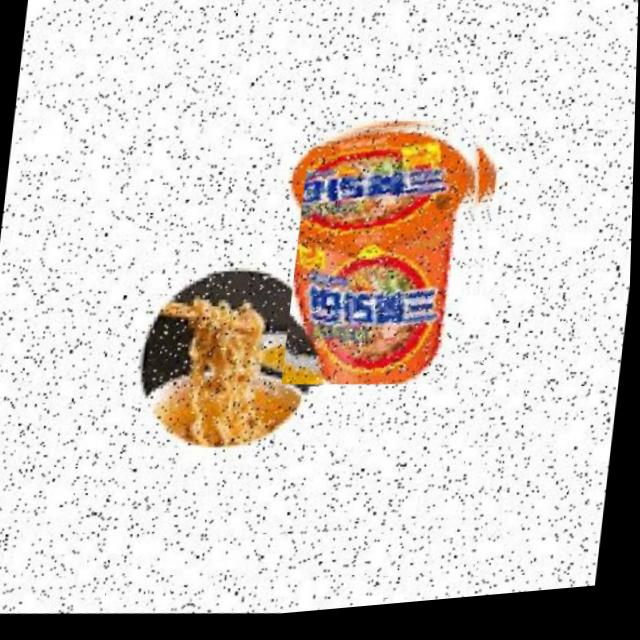Miscellaneous: (282, 110, 508, 406)
